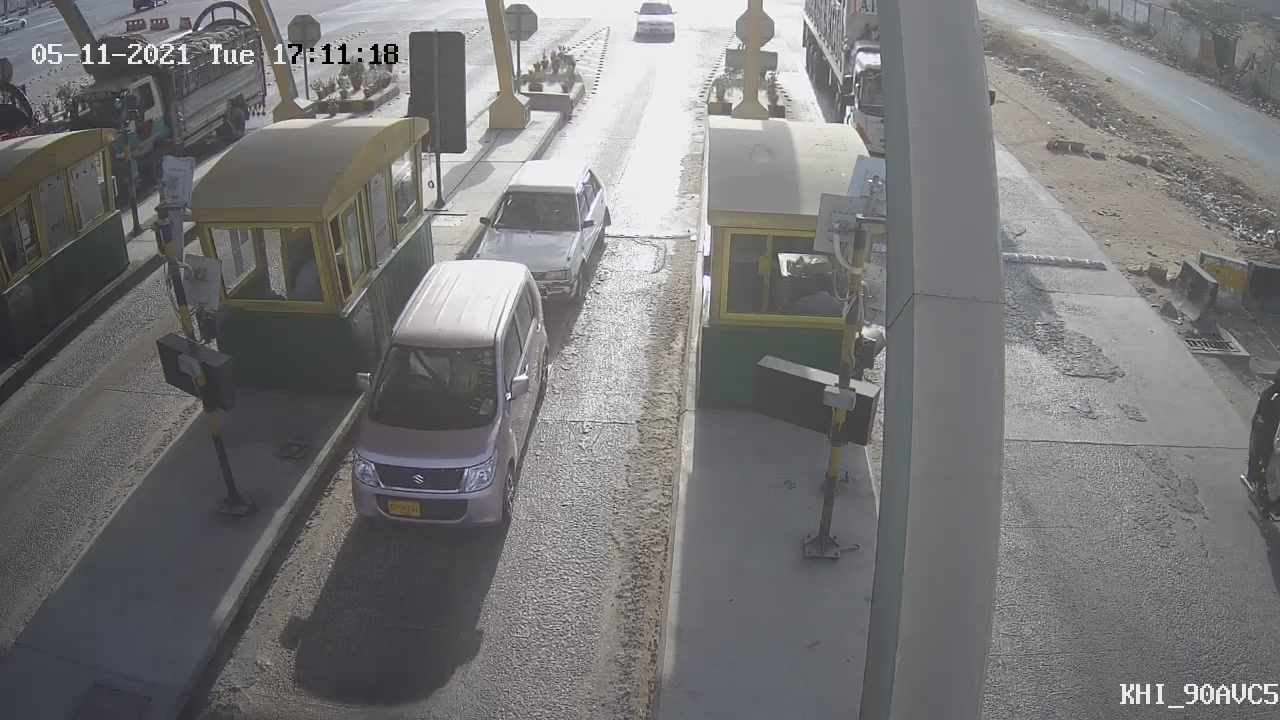F1: (324, 235, 570, 557)
